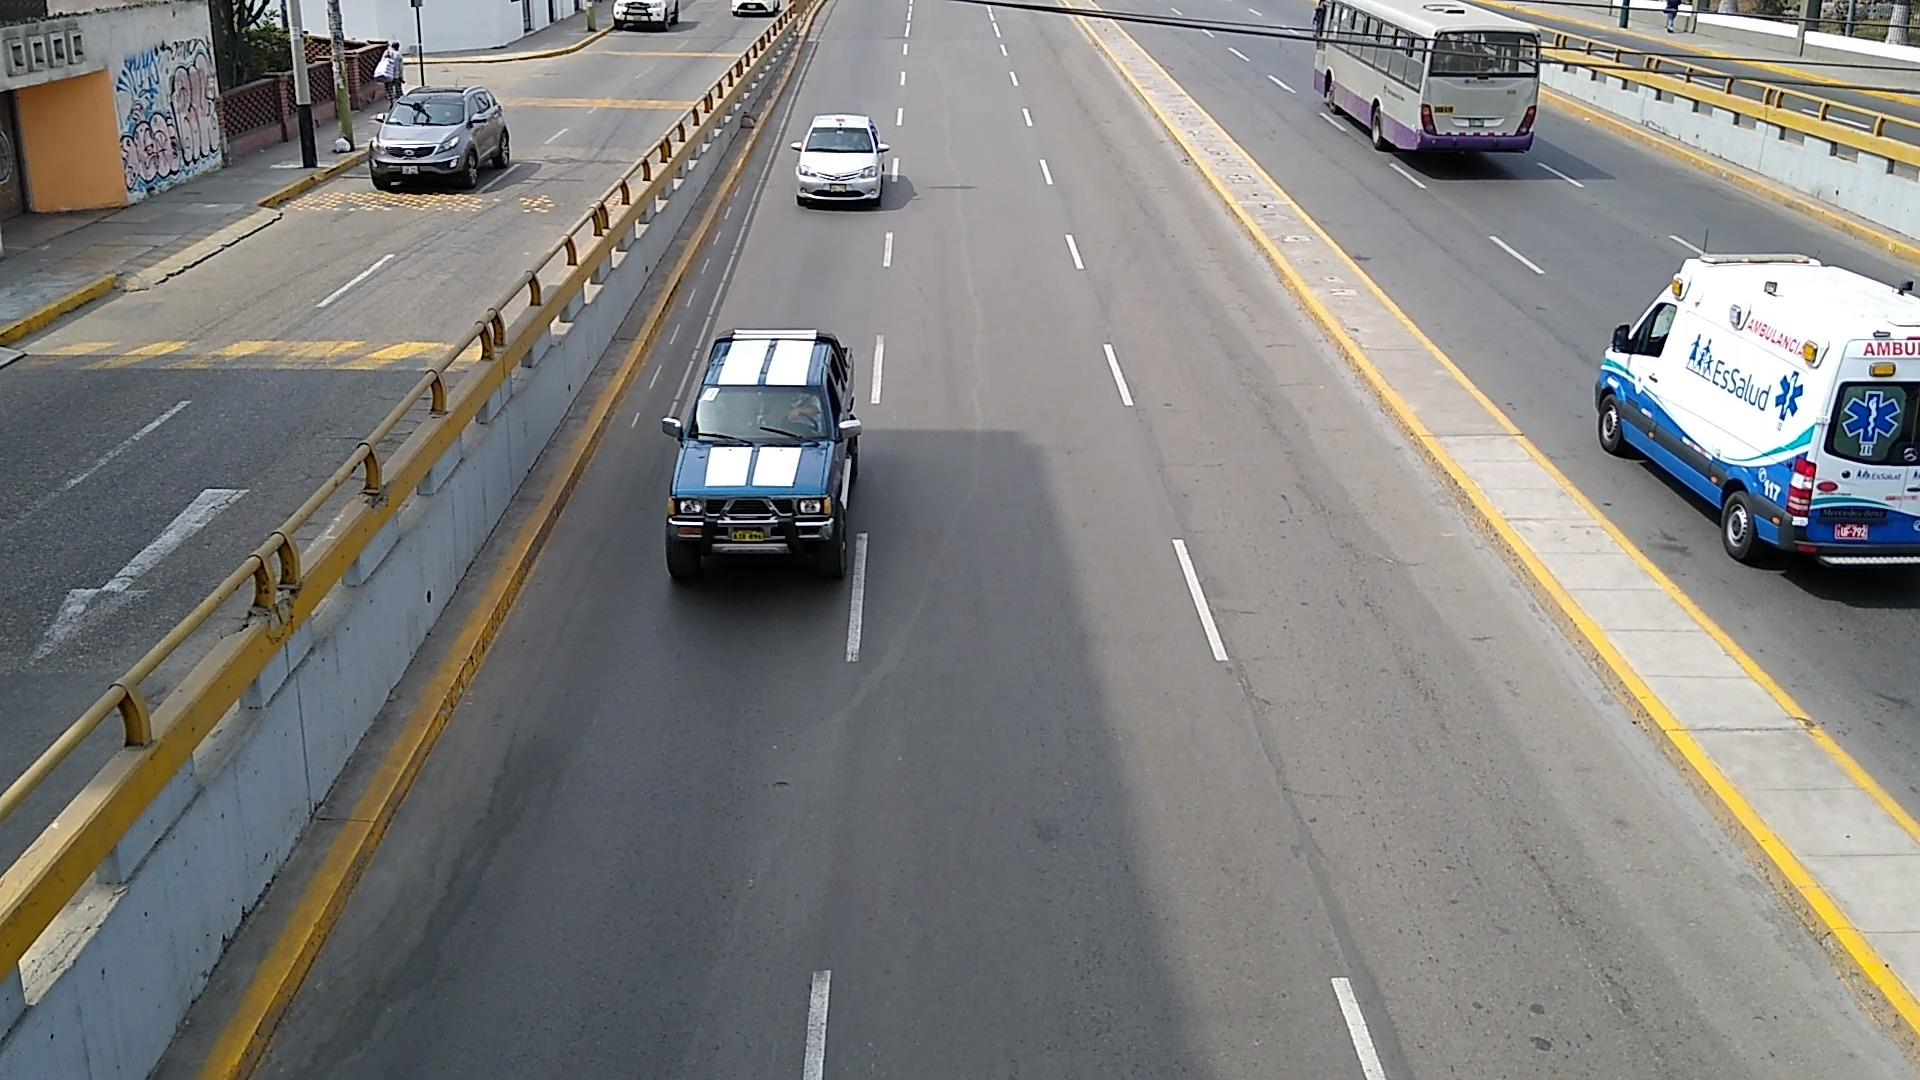bus: (1312, 0, 1542, 152)
car: (663, 330, 862, 582), (372, 86, 510, 187), (791, 112, 885, 206)
minivan: (1594, 255, 1920, 566)
